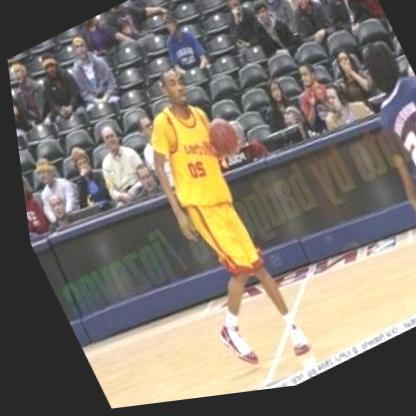basketball: (194, 115, 244, 169)
